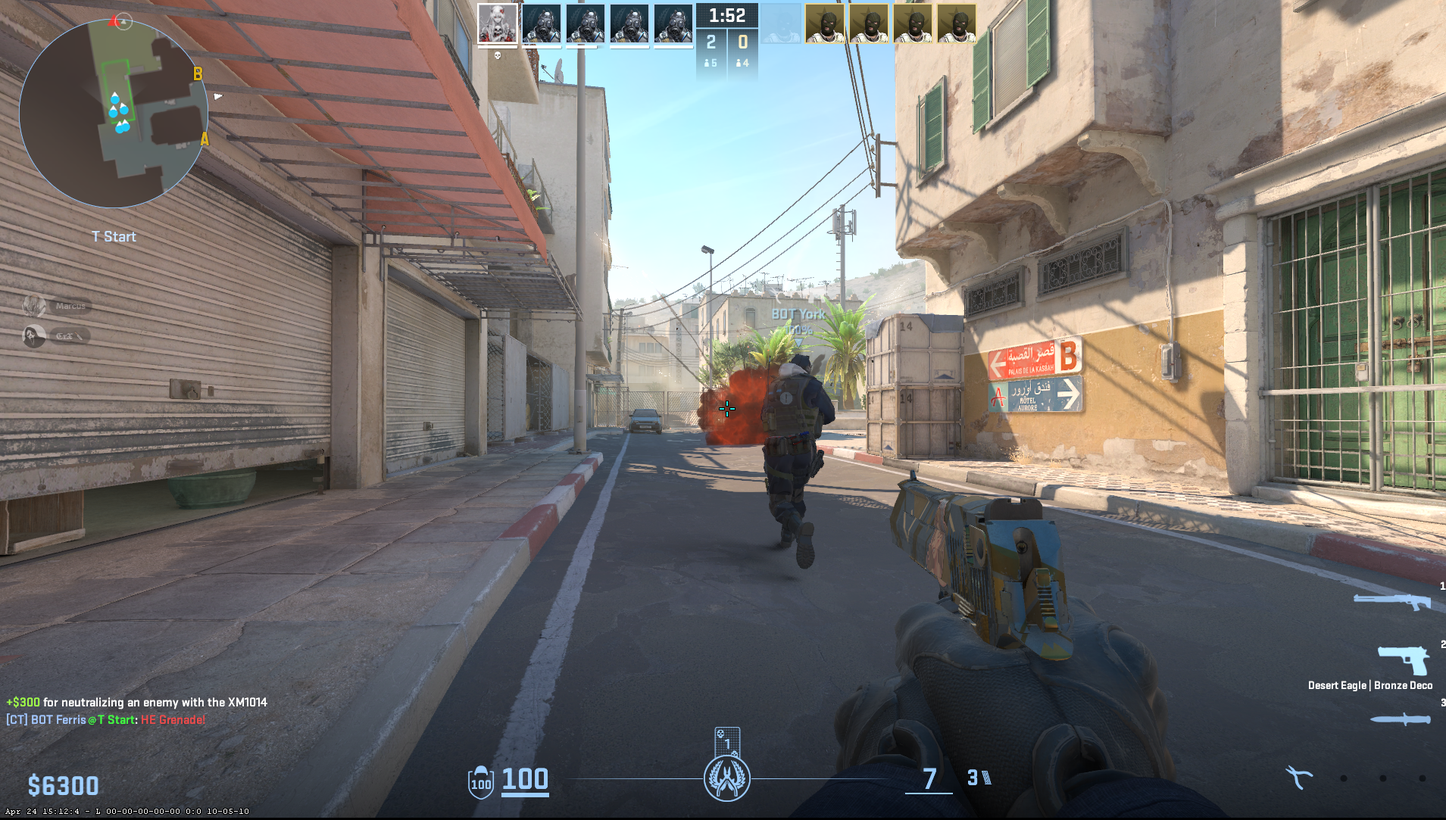CT: (760, 354, 836, 570)
